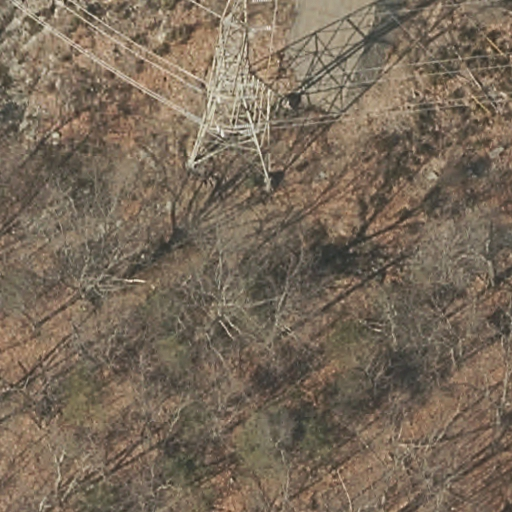TT: (186, 2, 278, 188)
